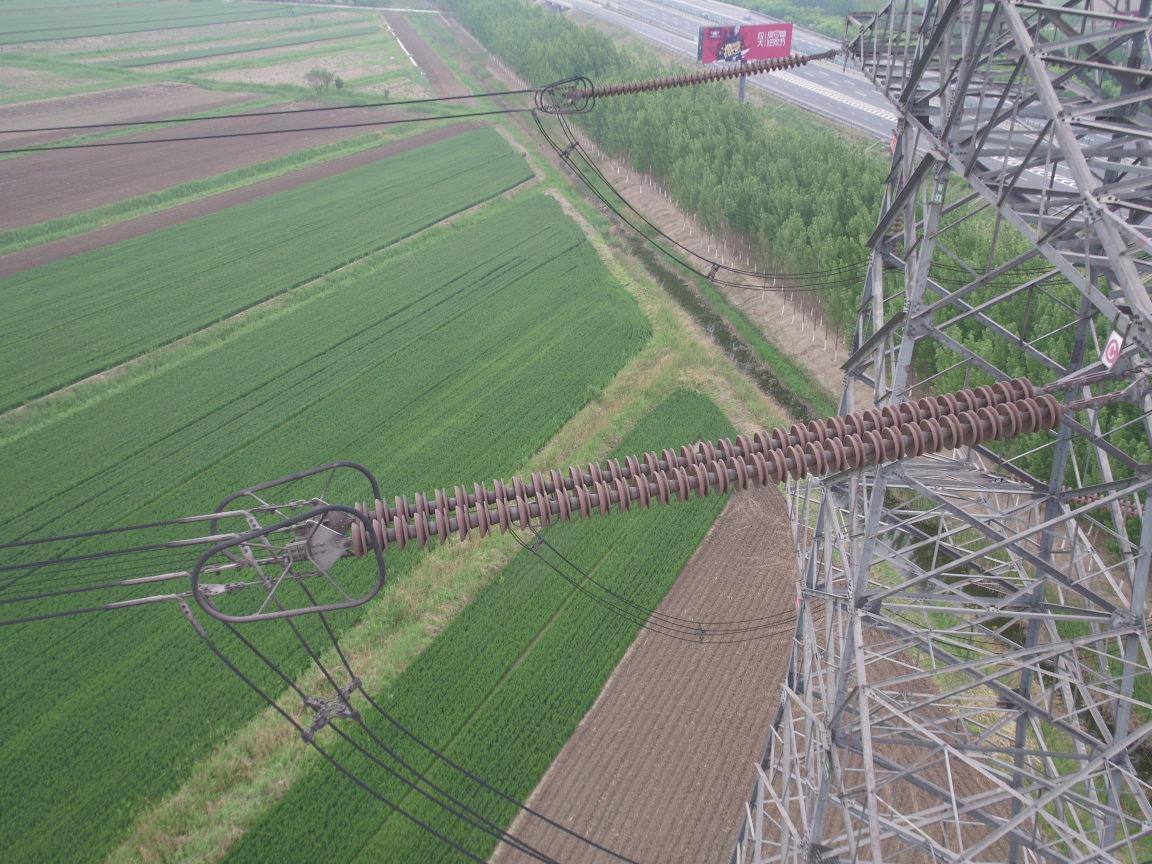insulator: (327, 373, 1096, 560), (578, 52, 829, 102)
